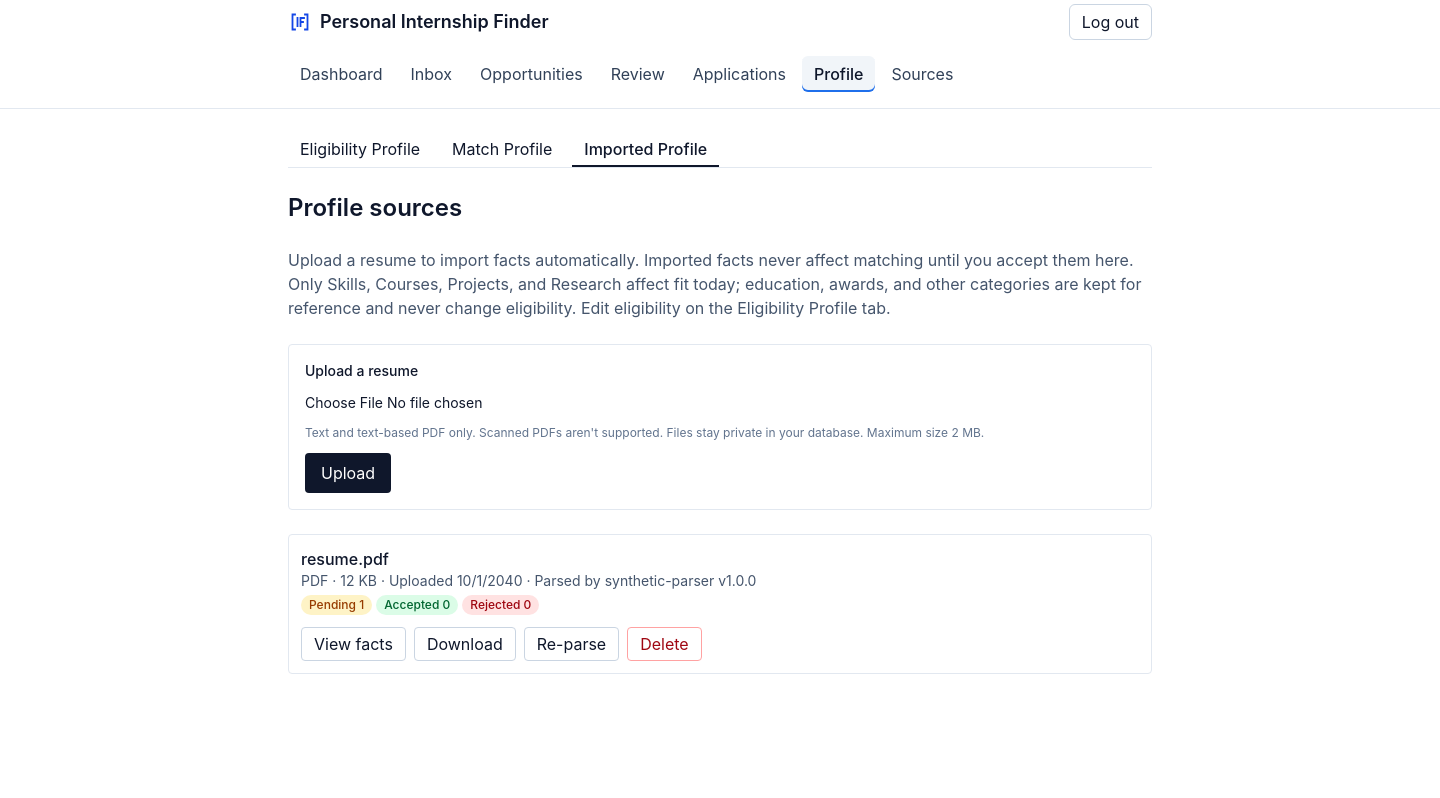
Scenario: profile sources page › stages accept/reject/edit changes and applies them in one request
The image size is (1440, 798).
Click the button "View facts" at x=353, y=644, box [301,627,406,661]
(page scrolled)
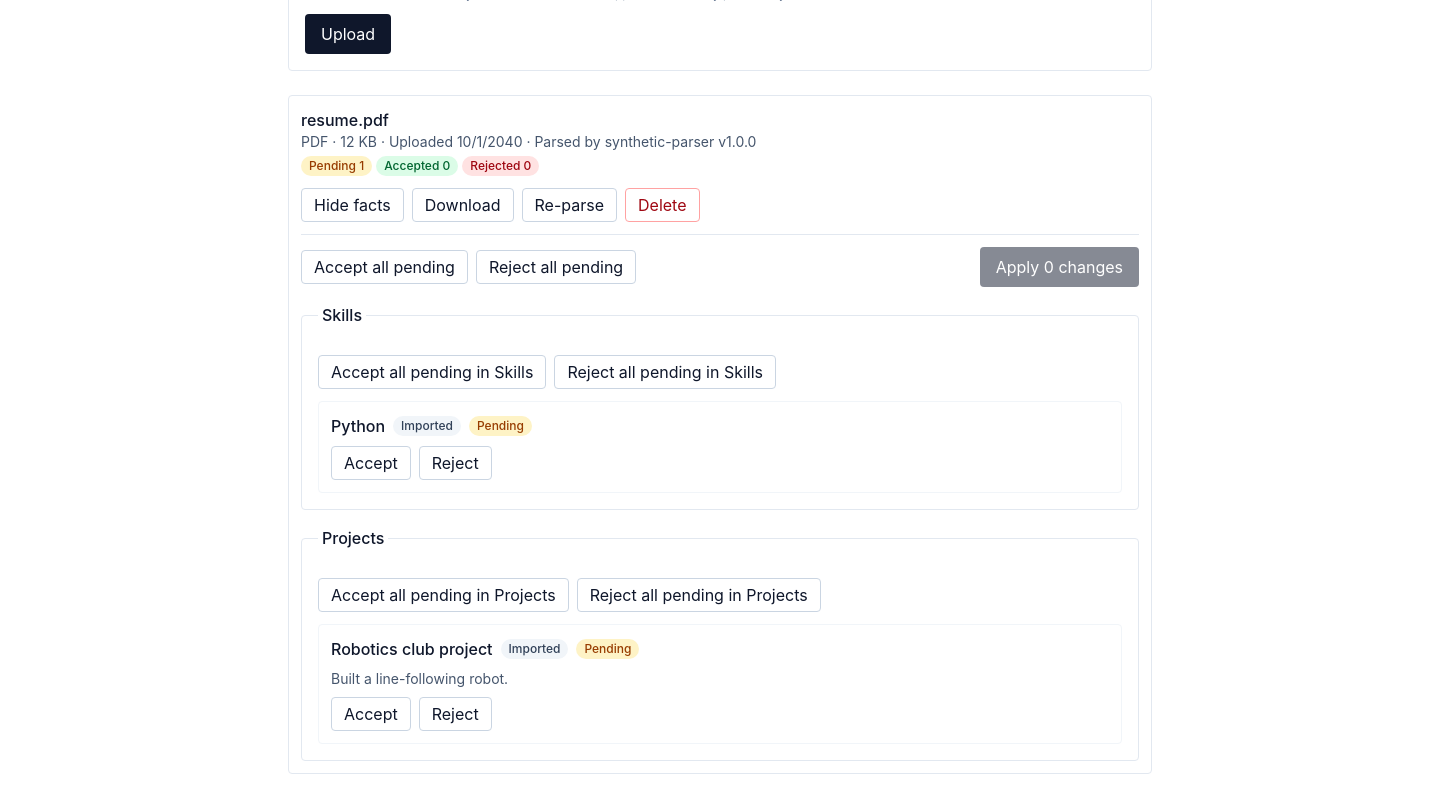
Expected: the text "Python" is shown, [331,414,385,438]
Click the button "Accept" below "Python" at x=371, y=463, box [331,446,411,480]
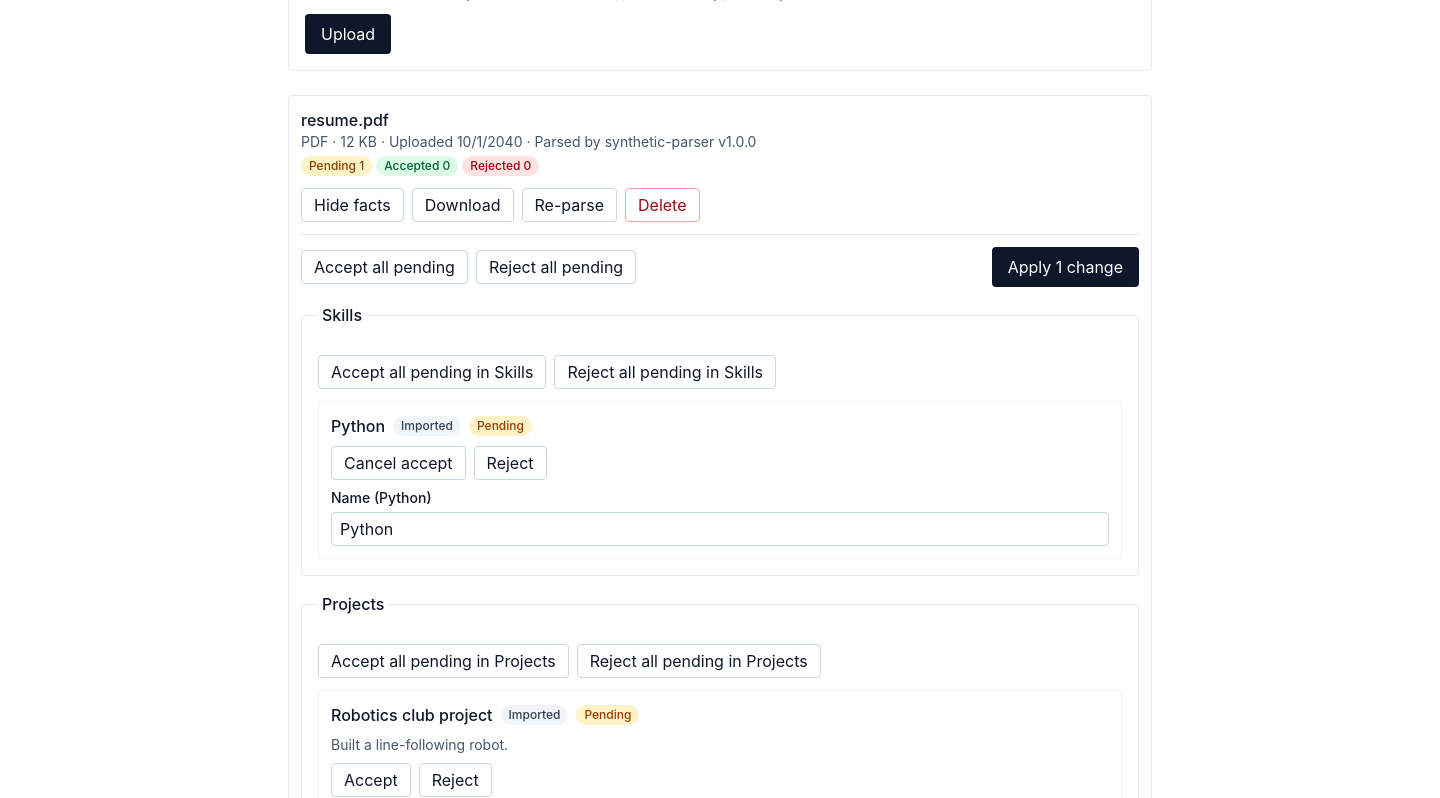
Replace the text in the field labelled "Name (Python)" with "Py" at x=720, y=529, box [331,512,1109,546]
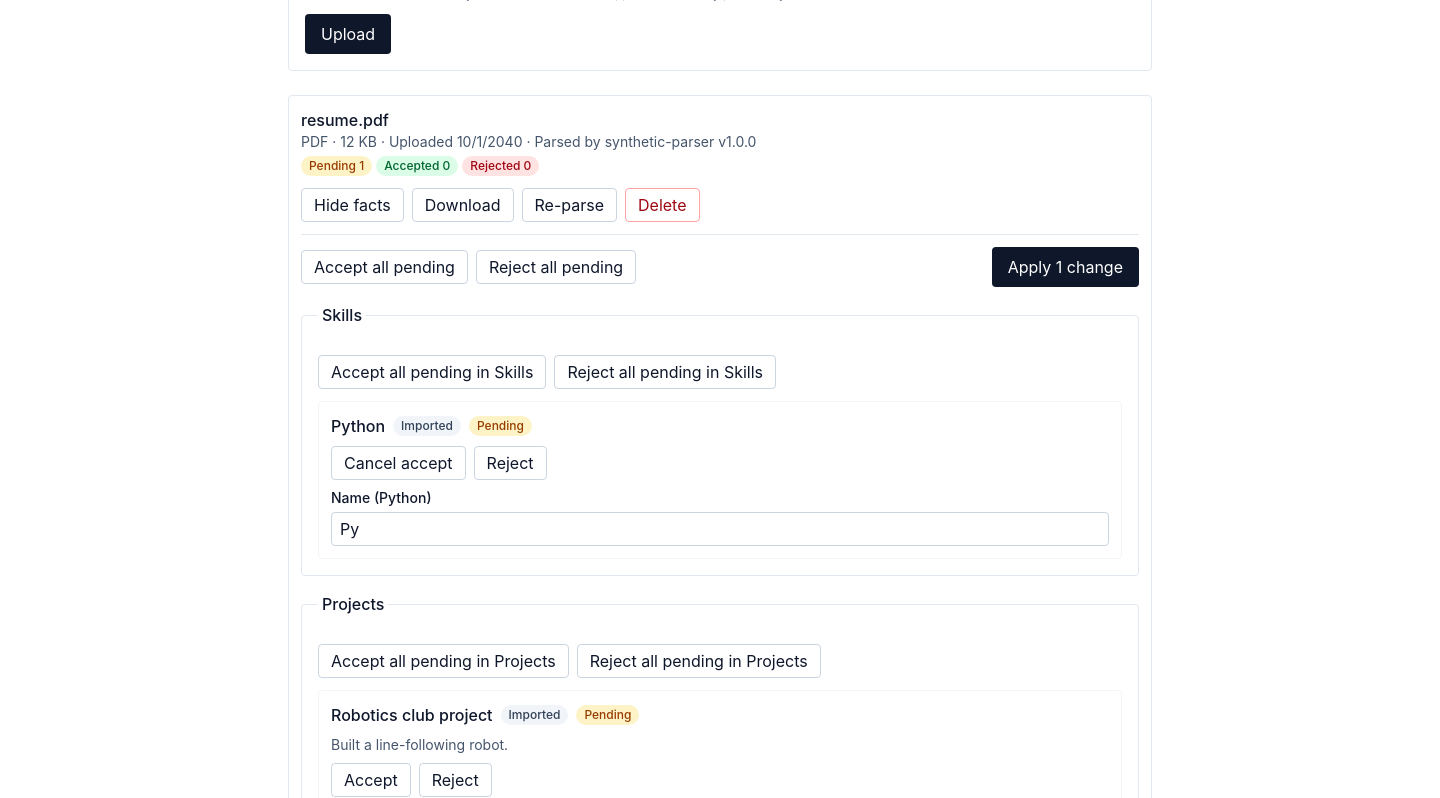
Click the button "Reject" below "Robotics club project" at x=455, y=780, box [419,763,492,797]
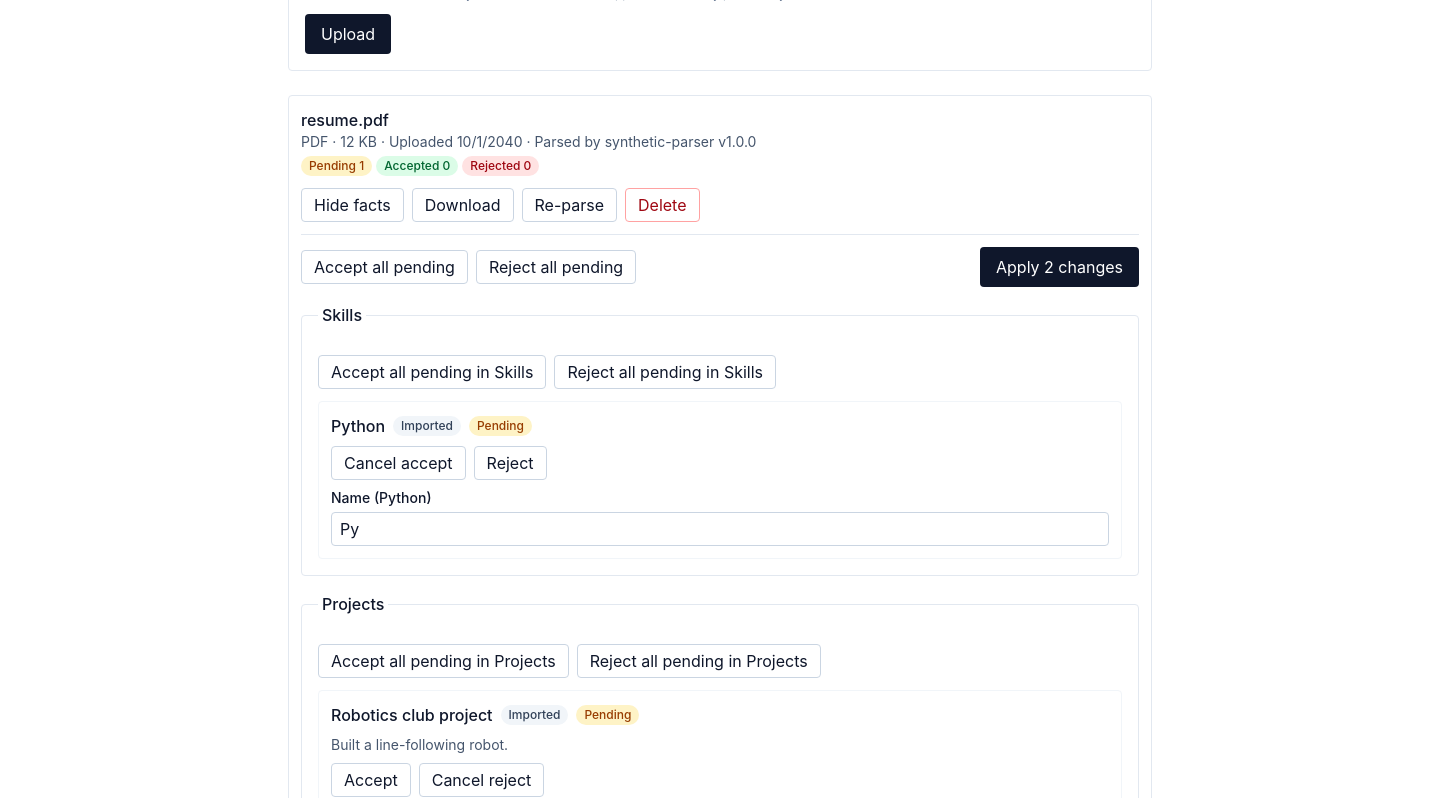
Click the button "Apply 2 changes" at x=1060, y=267, box [980,247,1139,287]
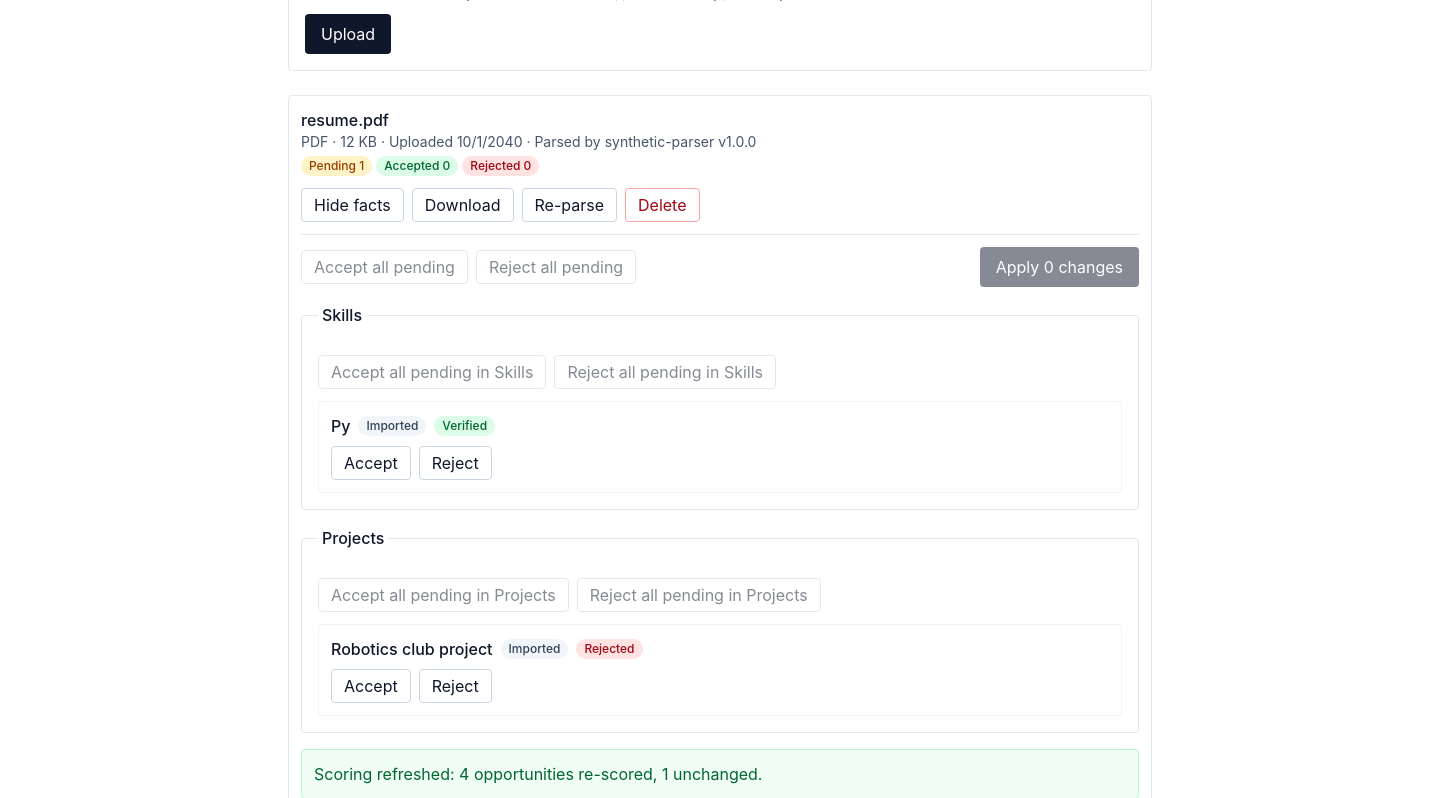
Expected: the text "Scoring refreshed: 4 opportunities re-scored, 1 unchanged." is shown, [301,749,1139,797]
